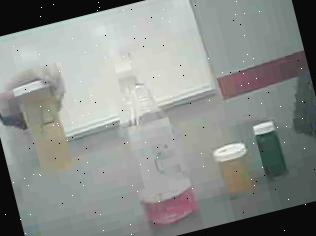Bottle A: (9, 72, 78, 184)
Bottle B: (209, 134, 260, 204)
Bottle C: (250, 113, 294, 184)
hazard: (96, 32, 208, 233)
